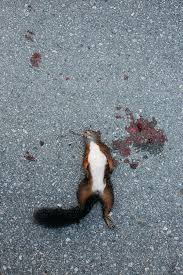squirrel: (34, 126, 115, 234)
